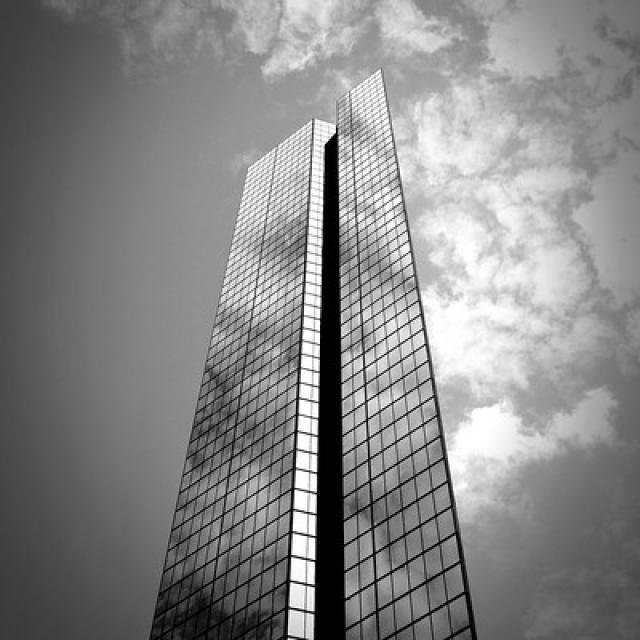Normal_building: (150, 64, 482, 637)
